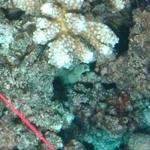alive: (4, 2, 147, 147)
